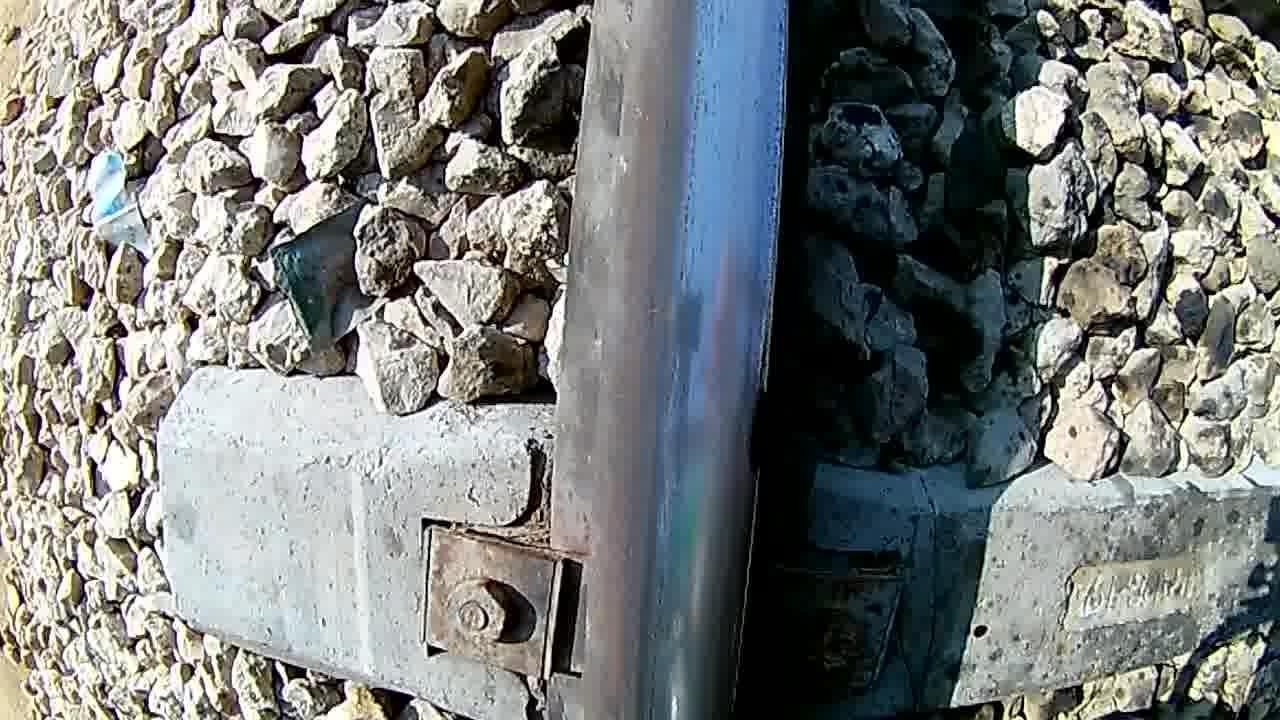crack: (589, 0, 774, 715)
